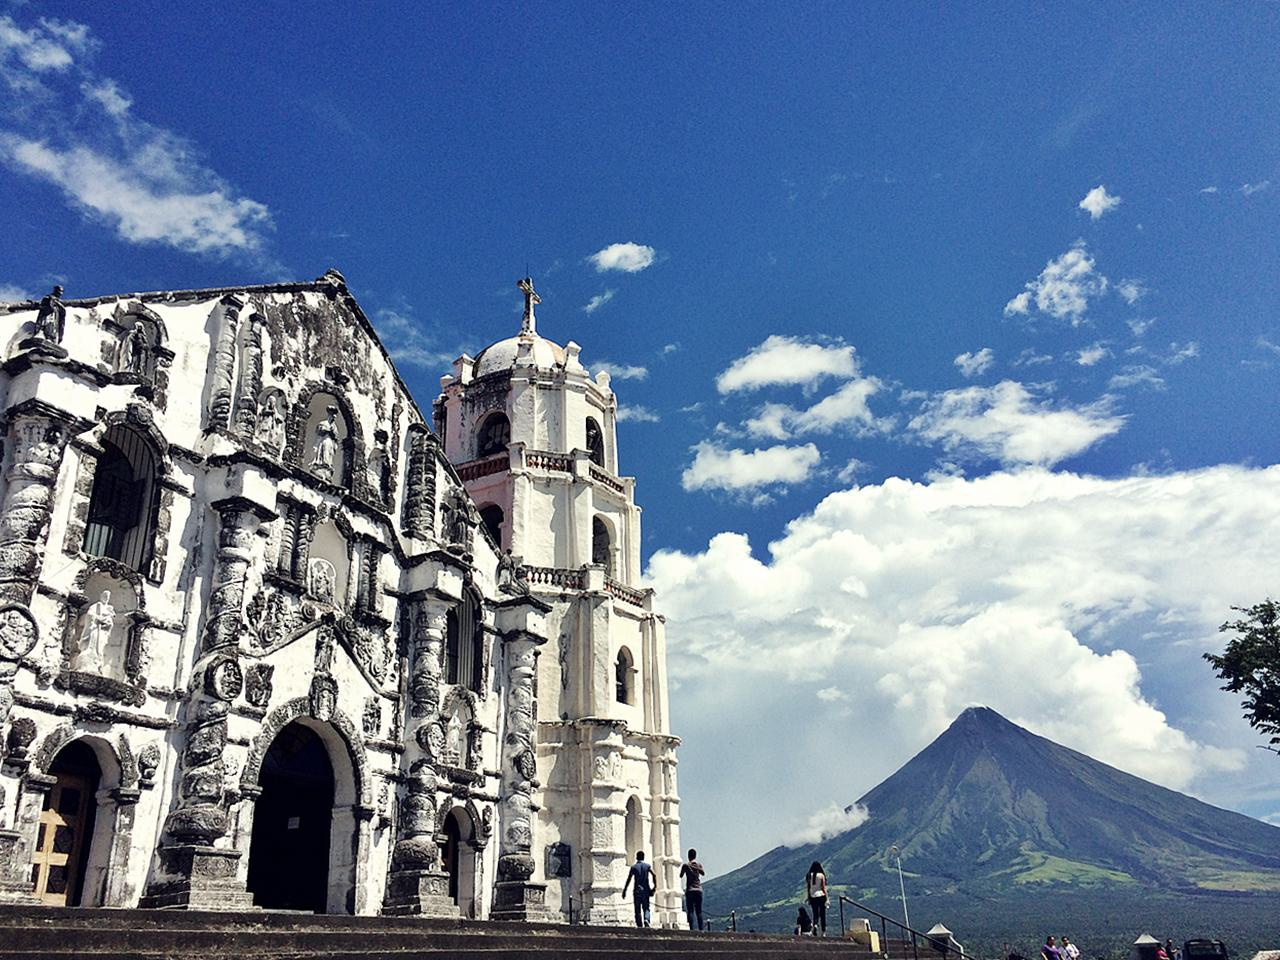daraga_church_daraga_albay: (1, 246, 694, 931)
